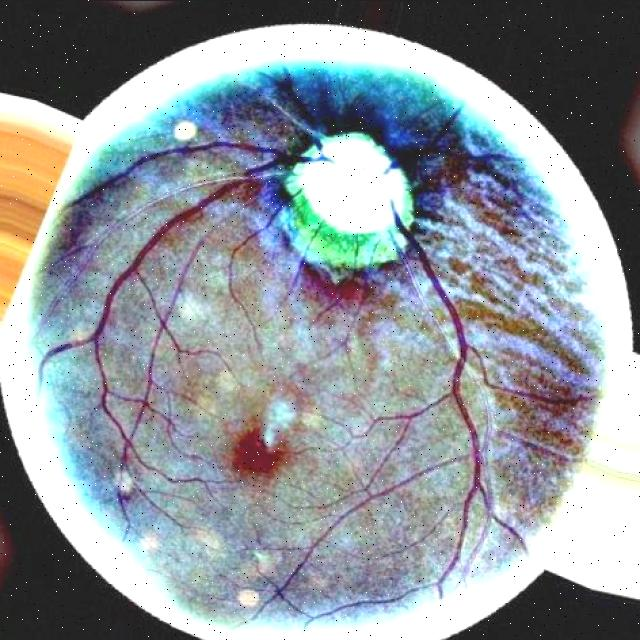Macula: (231, 428, 283, 476)
Nerves: (38, 141, 311, 533), (391, 202, 491, 597), (348, 395, 443, 511), (228, 210, 277, 294), (283, 102, 323, 157)
Optic Disk: (287, 133, 412, 232)
